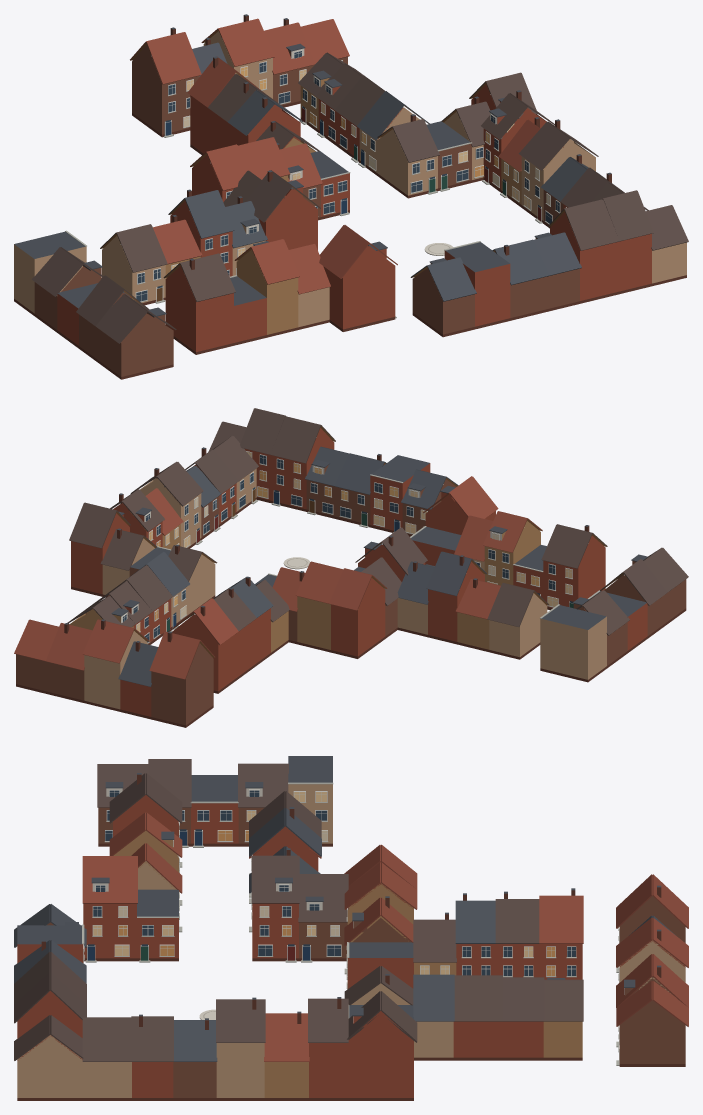
Rendered from Street_Shared.fbx.
The picture shows the model from 3 angles, top to bottom: view 1: azimuth 30°, elevation 25°; view 2: azimuth 150°, elevation 25°; view 3: azimuth 270°, elevation 25°; orthographic projection. The views are drawn at different scales.
Visible parts, largest first — view 1: Shared_Houses_Streets, Shared_Houses_Square; view 2: Shared_Houses_Streets, Shared_Houses_Square; view 3: Shared_Houses_Streets, Shared_Houses_Square.
Boxes of the visible parts, bbox=[...] form: Shared_Houses_Streets: bbox=[14, 14, 537, 379]; Shared_Houses_Square: bbox=[223, 90, 688, 337]; Shared_Houses_Streets: bbox=[14, 502, 688, 727]; Shared_Houses_Square: bbox=[100, 408, 498, 652]; Shared_Houses_Streets: bbox=[97, 756, 688, 1100]; Shared_Houses_Square: bbox=[14, 848, 417, 1100].
Size of what is drawn, in the model's own units: 91.93 by 14.56 by 91.93.
